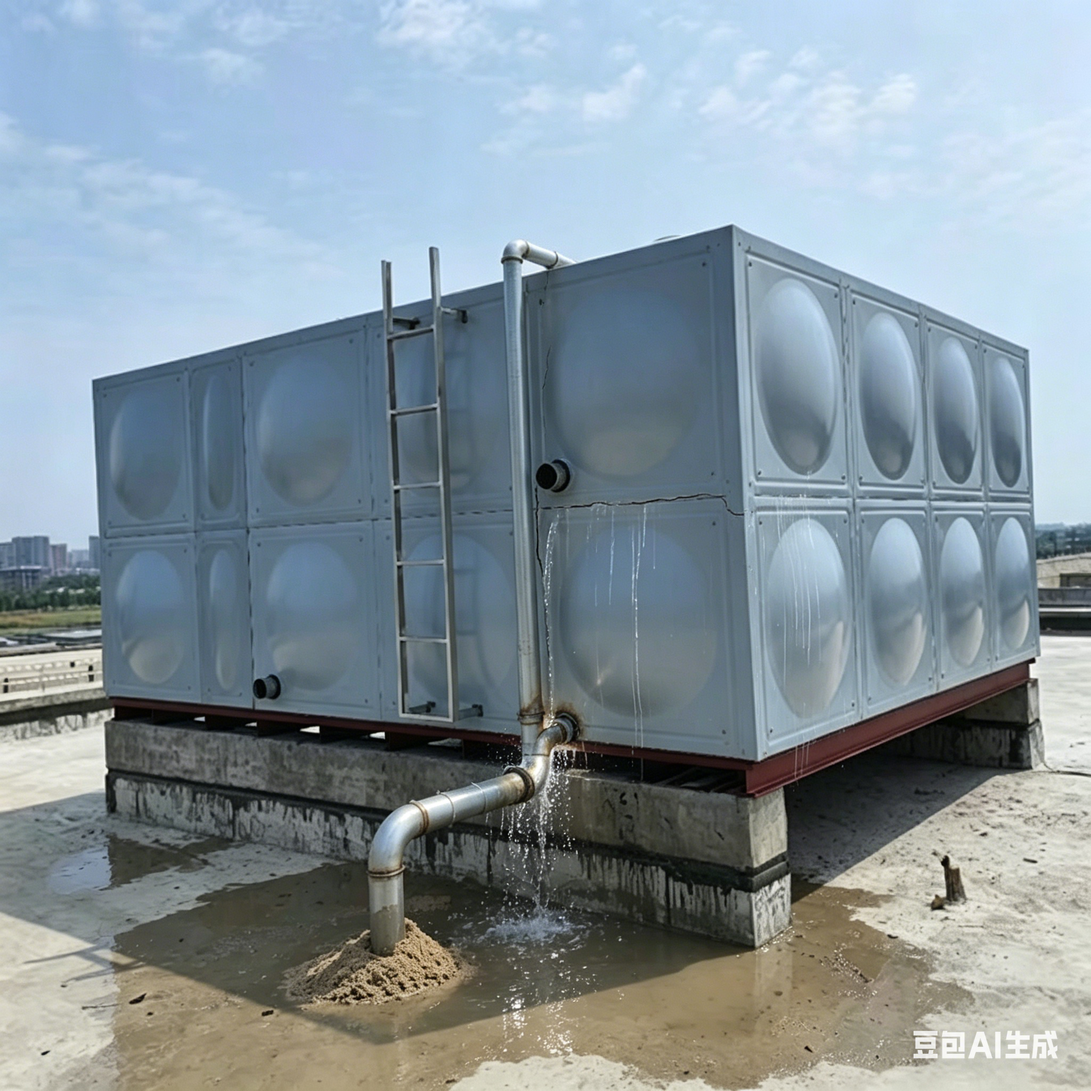Leakage: (588, 904, 925, 1089), (122, 925, 495, 1083), (511, 491, 578, 1065), (592, 495, 666, 802), (217, 854, 487, 915), (36, 834, 182, 892)
